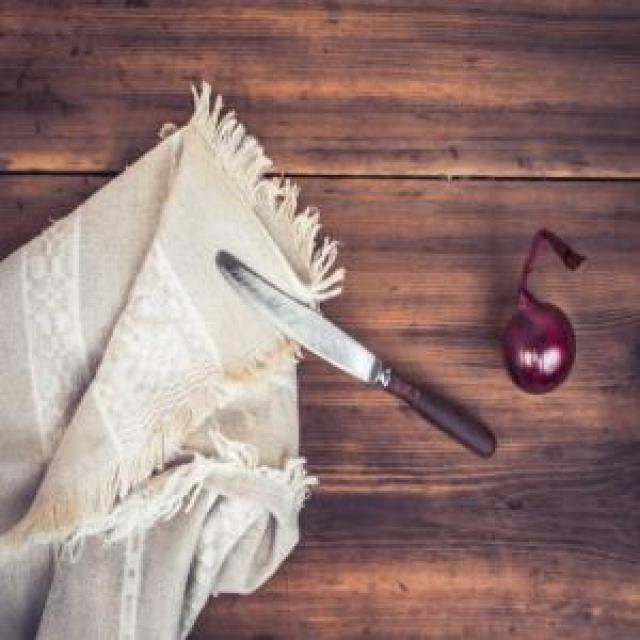knife: (216, 245, 502, 461)
